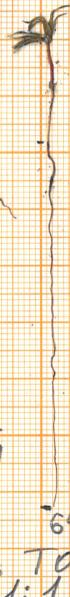flower: (8, 2, 70, 56)
root: (38, 144, 66, 505)
stem: (41, 55, 58, 142)
